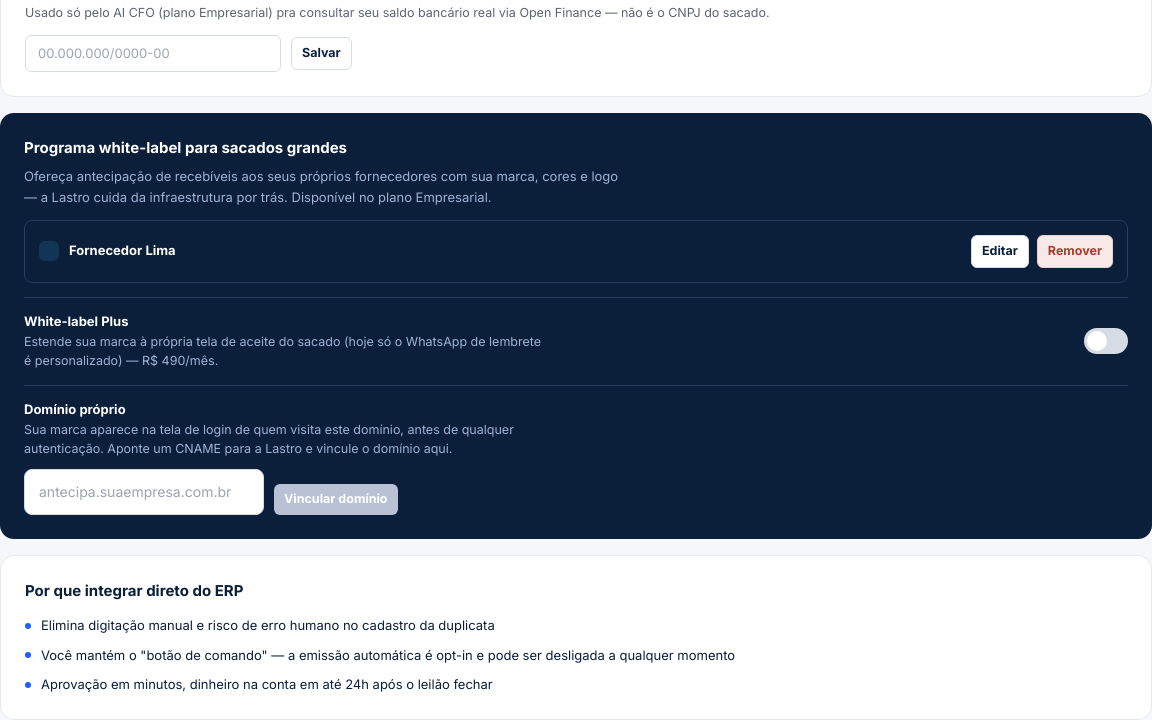
ErpPage — domínio próprio do white-label › erro do servidor aparece na tela em vez de sumir em silêncio
(page scrolled)
Expected: the text "Domínio próprio" is shown, [24,400,126,416]
Type "ja.existe.com.br" into the field named "Domínio próprio" at (144, 492), box [24,468,264,514]
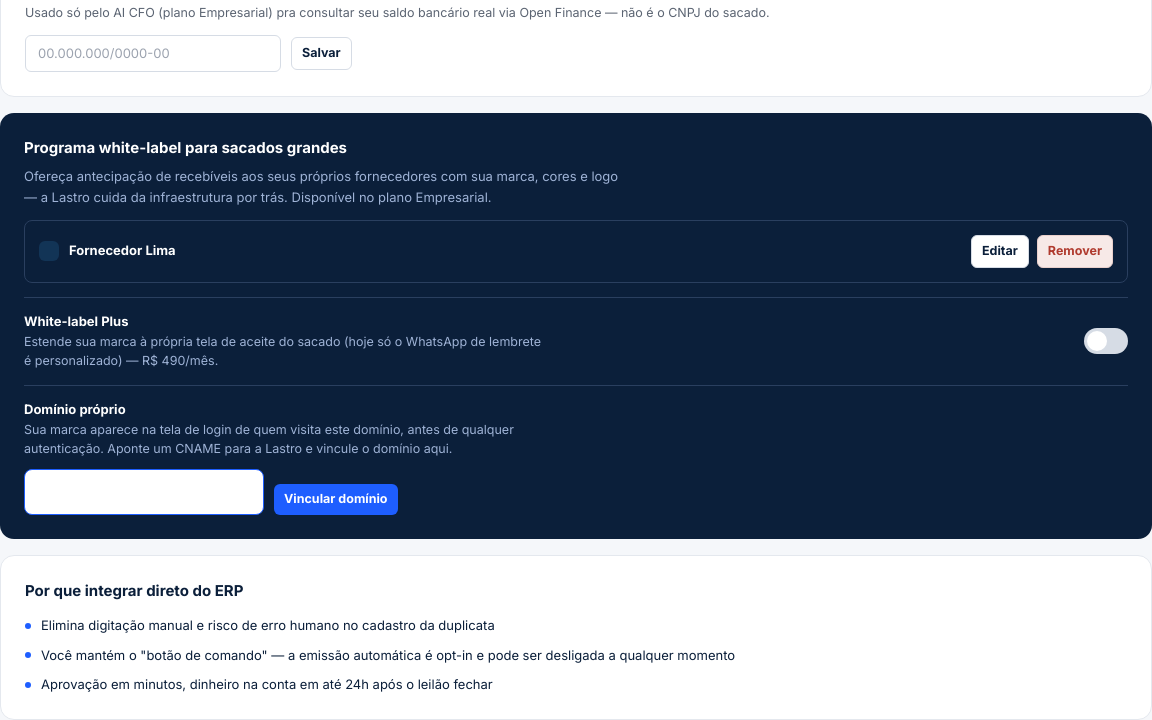
Click the button "Vincular domínio" at (336, 499), box [274,484,398,515]
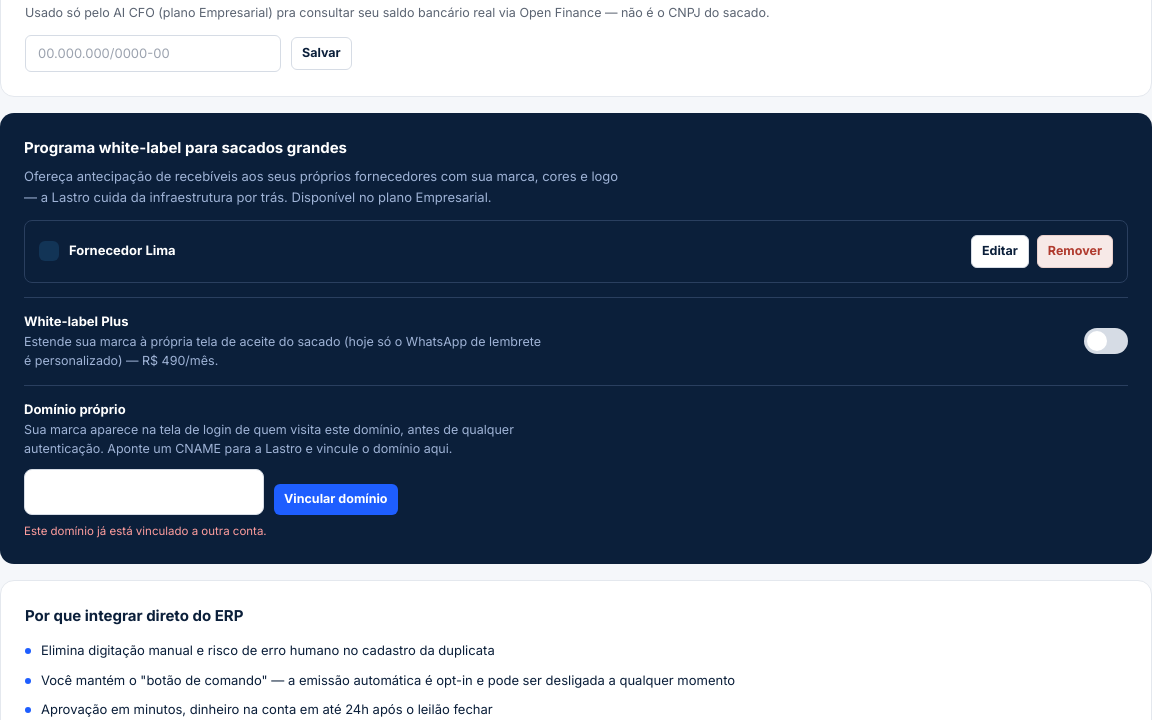
Expected: the text "Este domínio já está vinculado a outra conta." is shown, [24,524,267,538]
